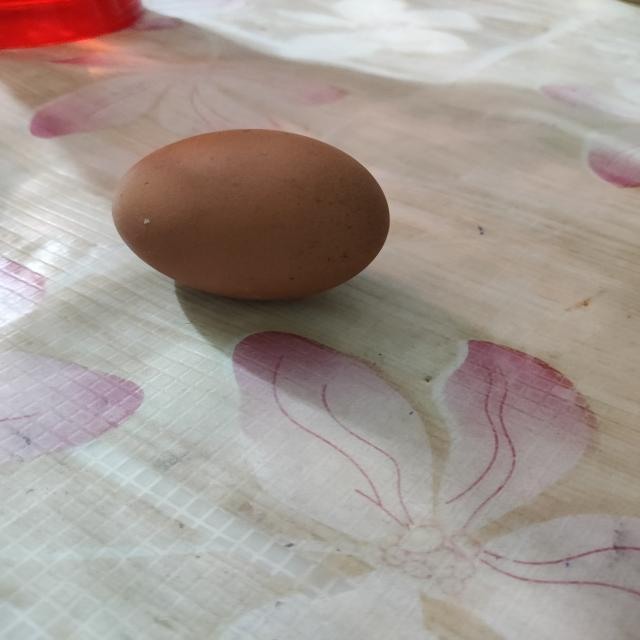egg: (106, 124, 394, 311)
